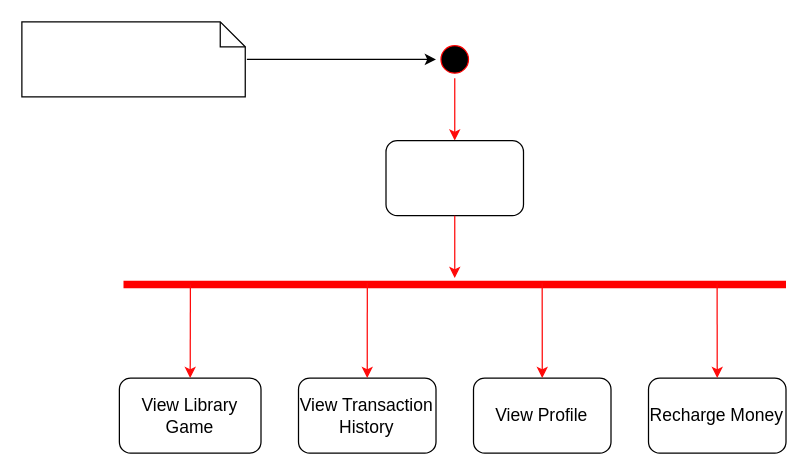
This 811x475 diagram has some shape labels left out. The shapes that lost their labels are listed below. From the top down, each one's box as (x1, y1, x2, y2) in pixels, then its label:
(21, 21, 245, 97): Customers already login
(385, 139, 524, 216): Manage Account
